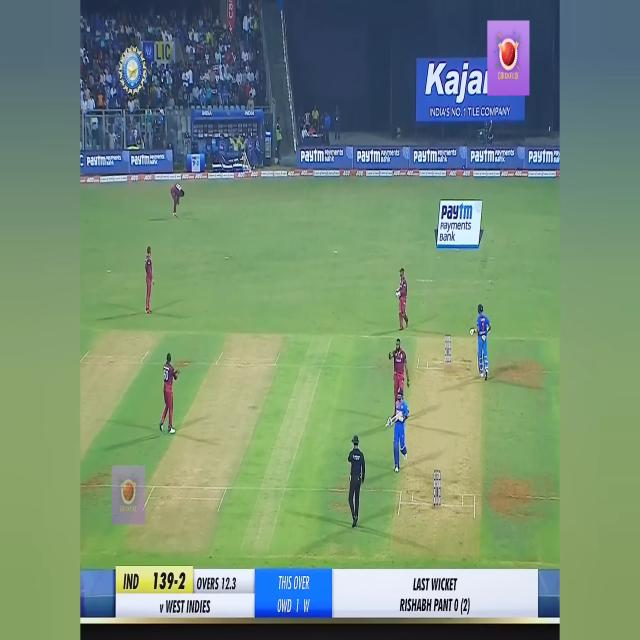fully_visible: (411, 144, 438, 172), (440, 200, 474, 222), (528, 145, 555, 172), (355, 144, 381, 168), (298, 147, 325, 169), (470, 146, 496, 167), (85, 149, 106, 170), (130, 152, 152, 169)
